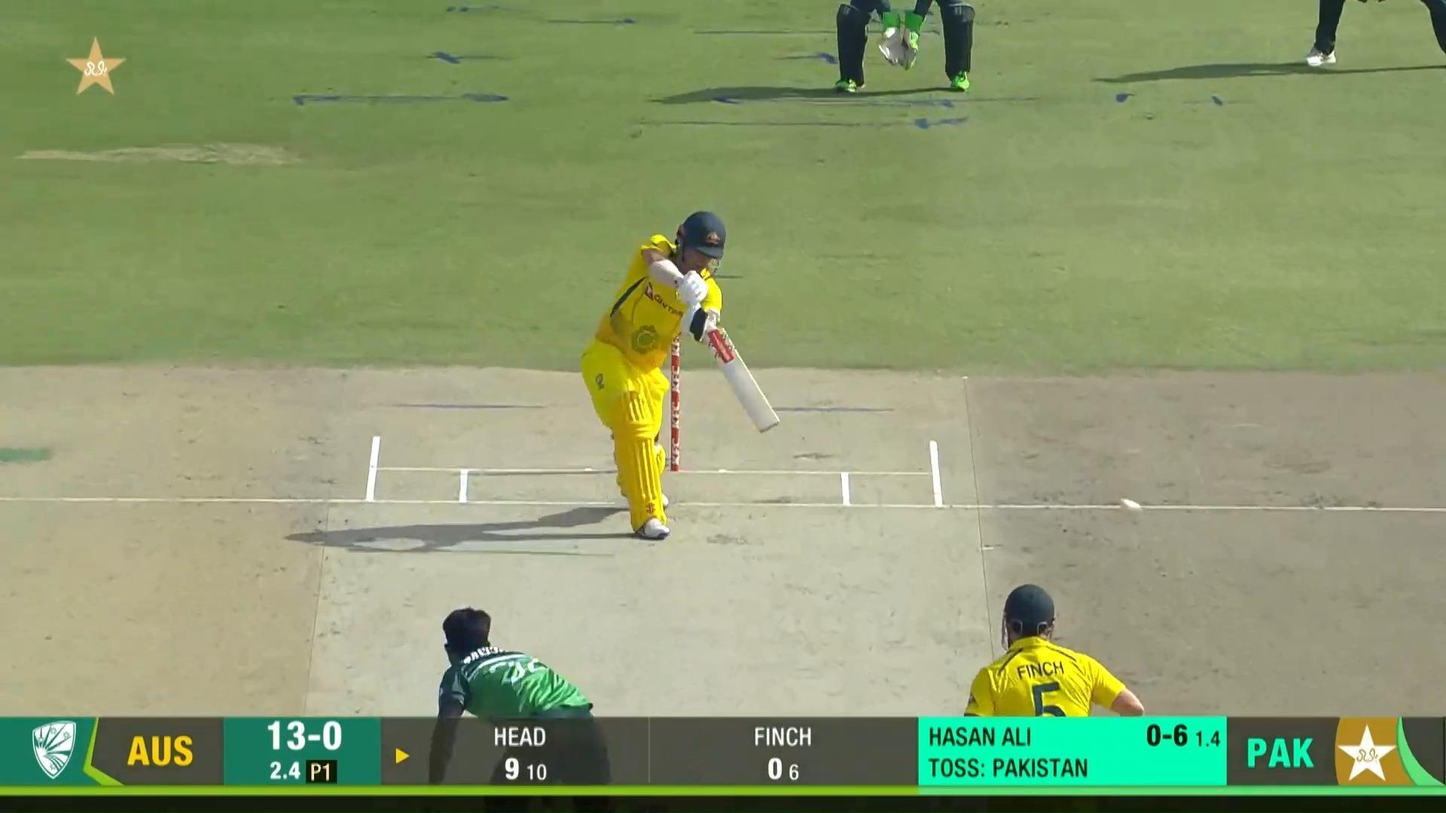BM 1: (581, 209, 783, 543)
BO: (424, 604, 616, 813)
